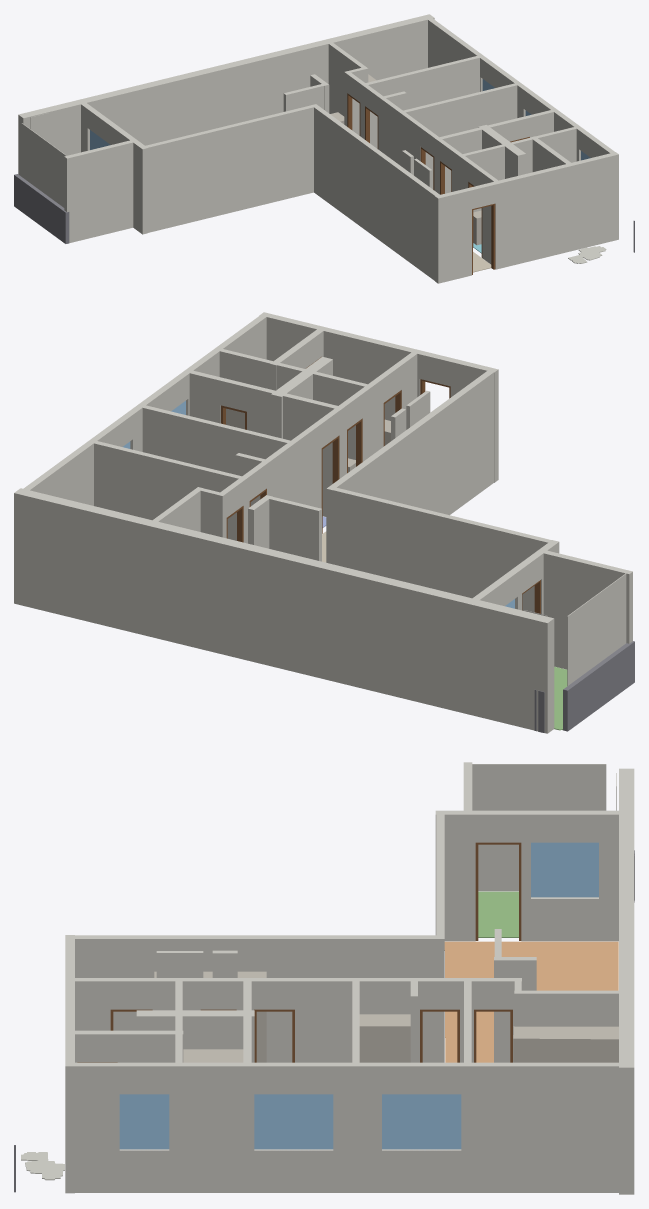
3 renders of one model, top to bottom at view 1: azimuth 30°, elevation 25°; view 2: azimuth 150°, elevation 25°; view 3: azimuth 270°, elevation 25°, orthographic. The views are drawn at different scales.
Visible parts, largest first — view 1: walls, railings, door_0, floor_11_Undefined; view 2: walls, railings, floor_10_Outdoor; view 3: walls, floor_0_Living_Room, window_2, window_4, furniture_0_closet, window_1, window_12, furniture_1_closet, floor_10_Outdoor, furniture_2_closet, furniture_3_closet, floor_11_Undefined (+1 smaller).
Boxes of the visible parts, box(x1,y1,x2,y2) form: walls: box(18, 14, 618, 283); railings: box(14, 174, 634, 252); door_0: box(472, 203, 495, 274); floor_11_Undefined: box(568, 246, 606, 263); walls: box(14, 312, 632, 733); railings: box(534, 641, 634, 732); floor_10_Outdoor: box(554, 666, 567, 730); walls: box(65, 762, 634, 1194); floor_0_Living_Room: box(444, 941, 618, 1062); window_2: box(254, 1094, 333, 1149); window_4: box(382, 1094, 461, 1149); furniture_0_closet: box(513, 1026, 618, 1062); window_1: box(531, 842, 598, 897); window_12: box(119, 1094, 169, 1149); furniture_1_closet: box(359, 1014, 410, 1062); floor_10_Outdoor: box(478, 891, 518, 937); furniture_2_closet: box(154, 971, 266, 1062); furniture_3_closet: box(183, 1049, 243, 1062); floor_11_Undefined: box(21, 1152, 64, 1180).
Size of the model in its own units: 13.97 by 2.72 by 11.97.
